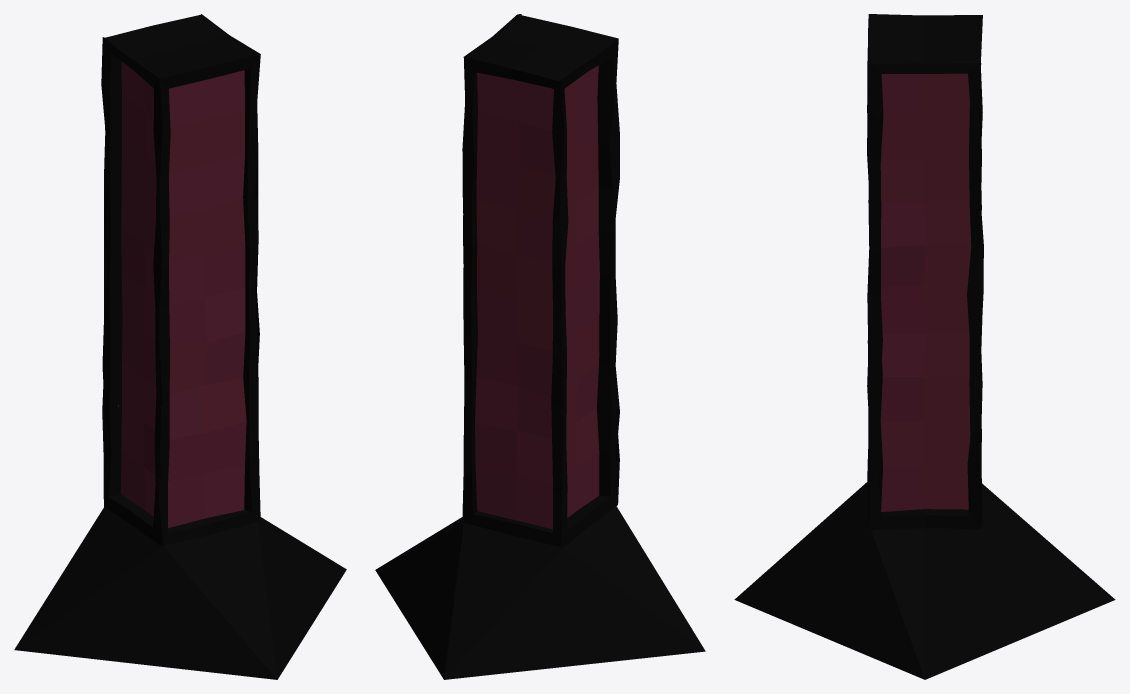
File: Obelisk.glb
3 views of the same model, side by side, from view 1: azimuth 30°, elevation 25°; view 2: azimuth 150°, elevation 25°; view 3: azimuth 270°, elevation 25° (orthographic).
Parts seen in each view (by area): view 1: Cube; view 2: Cube; view 3: Cube.
Boxes of the visible parts, x1,y1,x2,y2 form: Cube: (14,14,346,679); Cube: (375,14,705,679); Cube: (734,14,1115,679).
Bounding box in the file's own units: 4.42 × 7.19 × 4.42.
2 materials, 1 textured.
